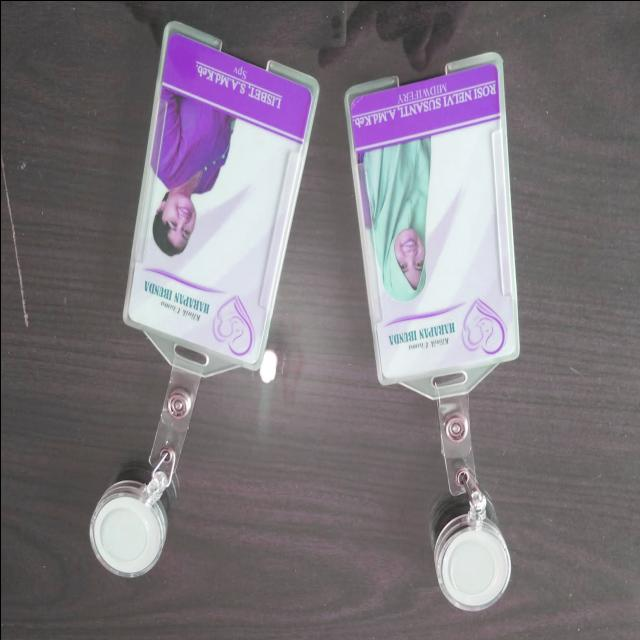ID_card: (122, 20, 320, 378), (343, 54, 520, 398)
